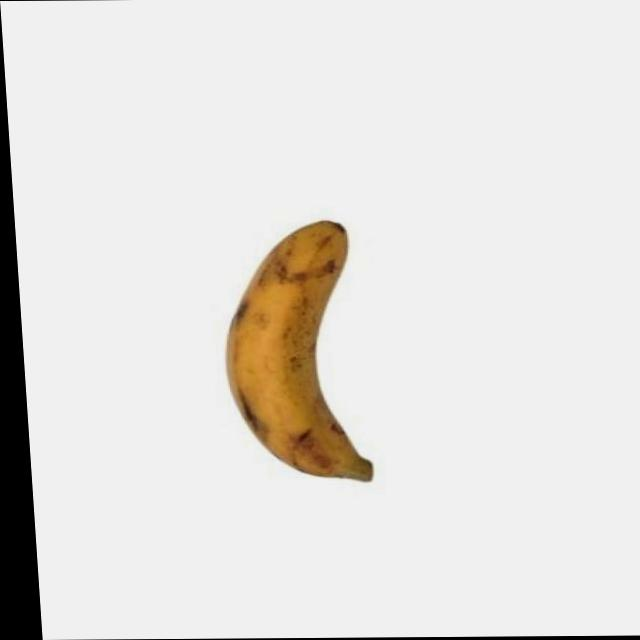banana: (214, 214, 374, 490)
